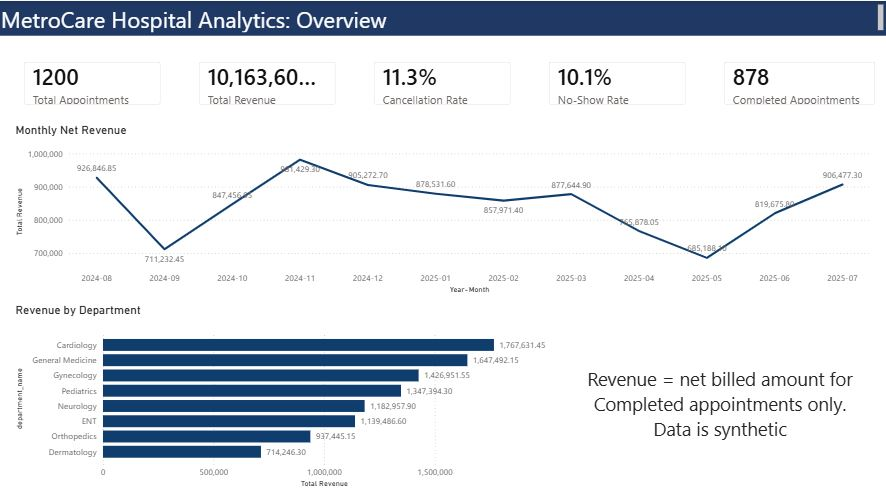

Layout of this report page (visuals, bound fields, positions):
{"tool":"powerbi","page":{"name":"Overview","canvas":[1280,720],"ordinal":0},"visuals":[{"type":"textbox","box":[0,0,1280,50.4],"z":0},{"type":"cardVisual","fields":{"Data":["Appointments.Total Appointments"]},"box":[20.2,70.6,231.8,96.5],"z":0},{"type":"cardVisual","fields":{"Data":["Appointments.Completed Appointments"]},"box":[1028.2,70.6,252,96.5],"z":1000},{"type":"cardVisual","fields":{"Data":["Appointments.Cancellation Rate"]},"box":[524.2,70.6,231.8,96.5],"z":2000},{"type":"cardVisual","fields":{"Data":["Appointments.No-Show Rate"]},"box":[776.2,70.6,231.8,96.5],"z":3000},{"type":"cardVisual","fields":{"Data":["Appointments.Total Revenue"]},"box":[272.2,70.6,231.8,96.5],"z":4000},{"type":"lineChart","title":"Monthly Net Revenue","fields":{"Category":["DimDate.Year-Month"],"Y":["Appointments.Total Revenue"]},"box":[20,175,1240,250],"z":5000},{"type":"clusteredBarChart","title":"Revenue by Department","fields":{"Category":["Departments.department_name"],"Y":["Appointments.Total Revenue"]},"box":[20,435,800,270],"z":6000},{"type":"textbox","box":[839.5,519.8,400.3,121],"z":7000}]}

Visuals, with their boxes in screenshot pixels (x1, y1, x2, y2), scaled from the page's 1280x720 canvas onto the 886x501 screenshot:
textbox: <box>0,0,885,35</box>
cardVisual - Appointments.Total Appointments: <box>14,49,174,116</box>
cardVisual - Appointments.Completed Appointments: <box>712,49,885,116</box>
cardVisual - Appointments.Cancellation Rate: <box>363,49,523,116</box>
cardVisual - Appointments.No-Show Rate: <box>537,49,698,116</box>
cardVisual - Appointments.Total Revenue: <box>188,49,349,116</box>
"Monthly Net Revenue" lineChart: <box>14,122,872,296</box>
"Revenue by Department" clusteredBarChart: <box>14,303,568,491</box>
textbox: <box>581,362,858,446</box>
